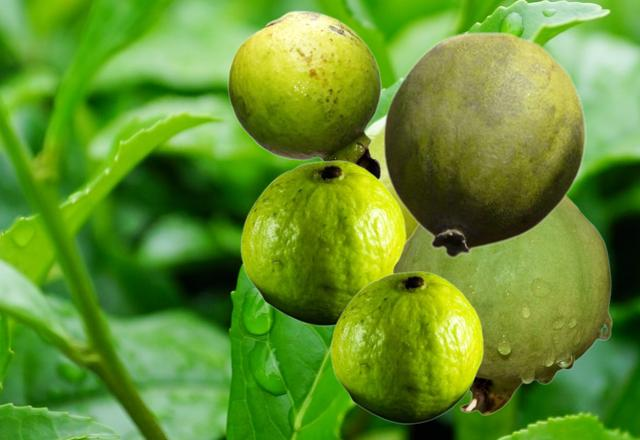guava: (392, 195, 611, 414), (382, 31, 586, 257), (240, 160, 405, 325), (227, 10, 381, 179), (330, 271, 482, 423), (366, 114, 416, 238)
